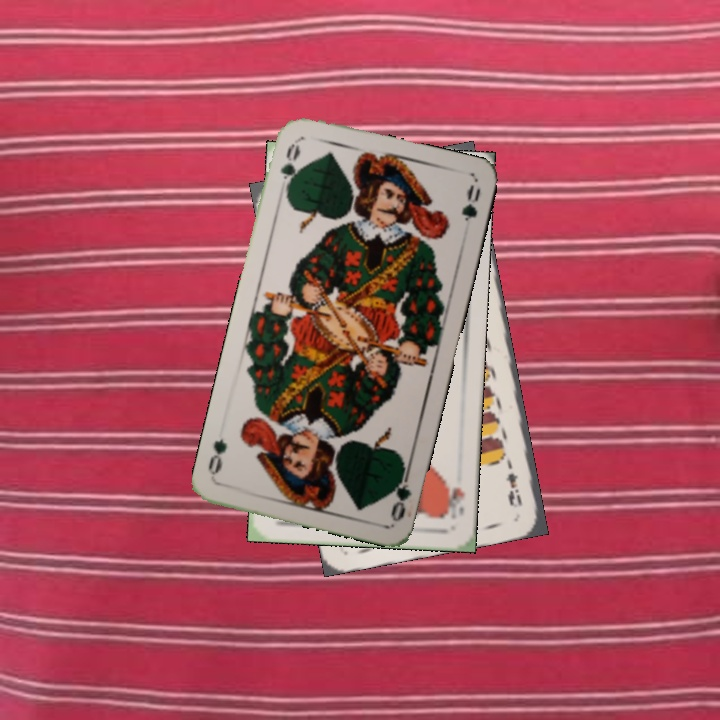E9: (498, 454, 525, 509)
GO: (385, 463, 414, 523), (276, 139, 303, 197)
HO: (441, 481, 467, 522)
